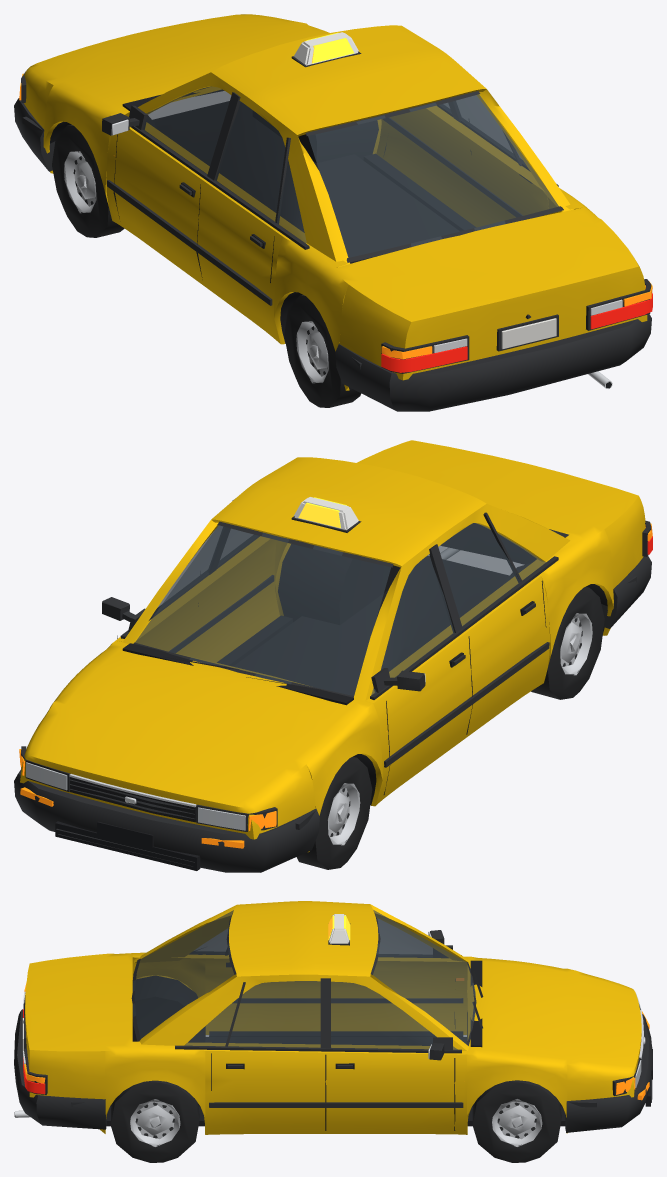
File: VH_Taxi_Corolla_LOD1.fbx
3 views of the same model, one above another, from view 1: azimuth 30°, elevation 25°; view 2: azimuth 150°, elevation 25°; view 3: azimuth 270°, elevation 25° (orthographic). The views are drawn at different scales.
Parts seen in each view (by area): view 1: Carrosserie.001, Plastiques.001, Vitres.001, Roue_RL.001, Roue_FL.001, Feux.001, Lumignon.001, Plaques.001, Clignotants.001; view 2: Carrosserie.001, Plastiques.001, Vitres.001, Roue_FL.001, Roue_RL.001, Phares.001, Lumignon.001, Clignotants.001, Chrome.001; view 3: Carrosserie.001, Vitres.001, Plastiques.001, Roue_FR.001, Roue_RR.001, Lumignon.001, Clignotants.001.
Part boxes in pixels (left/top/right/bottom): Carrosserie.001: left=24, top=14, right=647, bottom=390; Plastiques.001: left=14, top=51, right=651, bottom=411; Vitres.001: left=143, top=86, right=558, bottom=257; Roue_RL.001: left=284, top=295, right=361, bottom=407; Roue_FL.001: left=52, top=124, right=124, bottom=237; Feux.001: left=381, top=293, right=652, bottom=372; Lumignon.001: left=294, top=32, right=358, bottom=65; Plaques.001: left=501, top=318, right=556, bottom=349; Clignotants.001: left=19, top=73, right=652, bottom=359; Carrosserie.001: left=20, top=440, right=645, bottom=852; Plastiques.001: left=14, top=498, right=651, bottom=872; Vitres.001: left=128, top=523, right=545, bottom=695; Roue_FL.001: left=296, top=756, right=372, bottom=869; Roue_RL.001: left=531, top=586, right=604, bottom=699; Phares.001: left=26, top=762, right=245, bottom=830; Lumignon.001: left=294, top=497, right=358, bottom=530; Clignotants.001: left=19, top=523, right=652, bottom=848; Chrome.001: left=69, top=548, right=460, bottom=807; Carrosserie.001: left=25, top=901, right=641, bottom=1134; Vitres.001: left=132, top=910, right=475, bottom=1049; Plastiques.001: left=14, top=912, right=652, bottom=1132; Roue_FR.001: left=472, top=1080, right=561, bottom=1162; Roue_RR.001: left=111, top=1080, right=199, bottom=1162; Lumignon.001: left=328, top=914, right=350, bottom=943; Clignotants.001: left=24, top=978, right=649, bottom=1100.
Bounding box in the file's own units: 1.93 × 4.31 × 1.43.
